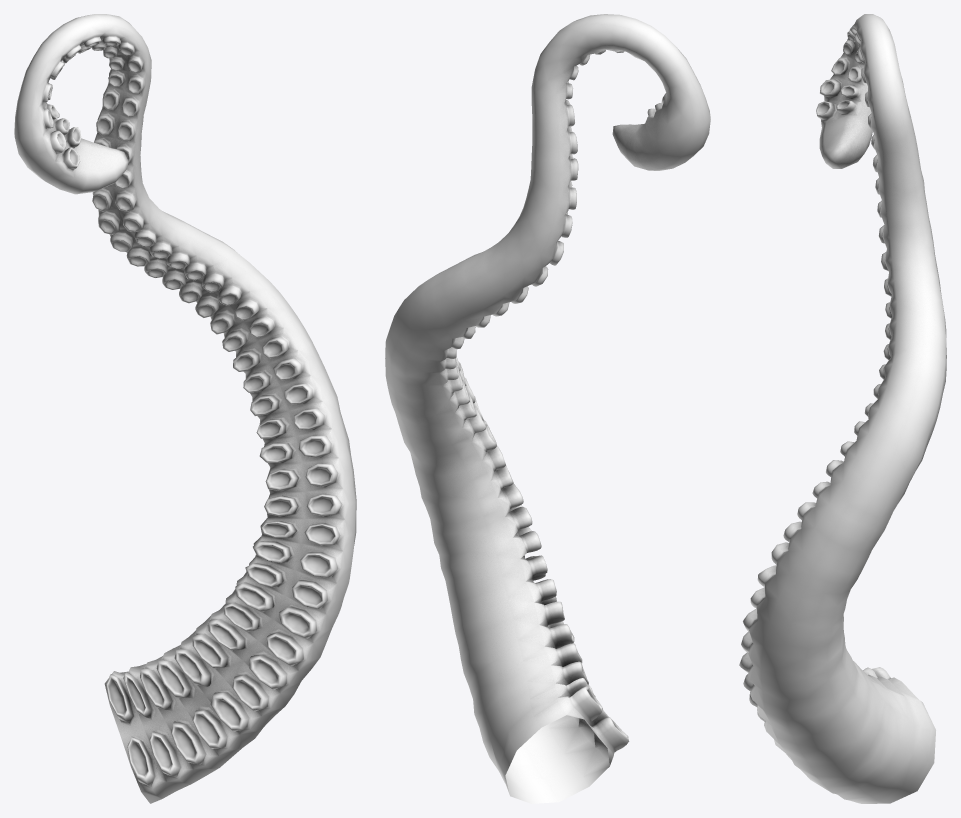
Rendered from tentacle.obj.
3 views of the same model, side by side, from view 1: azimuth 30°, elevation 25°; view 2: azimuth 150°, elevation 25°; view 3: azimuth 270°, elevation 25° (orthographic). The views are drawn at different scales.
Visible parts, largest first — view 1: sketchfab.temp_Cube.005; view 2: sketchfab.temp_Cube.005; view 3: sketchfab.temp_Cube.005.
Boxes of the visible parts, bbox=[...] form: sketchfab.temp_Cube.005: bbox=[14, 14, 356, 803]; sketchfab.temp_Cube.005: bbox=[385, 14, 710, 803]; sketchfab.temp_Cube.005: bbox=[739, 14, 946, 803].
Bounding box in the file's own units: 1.07 × 2.61 × 0.6523.
1 material, 1 textured.
